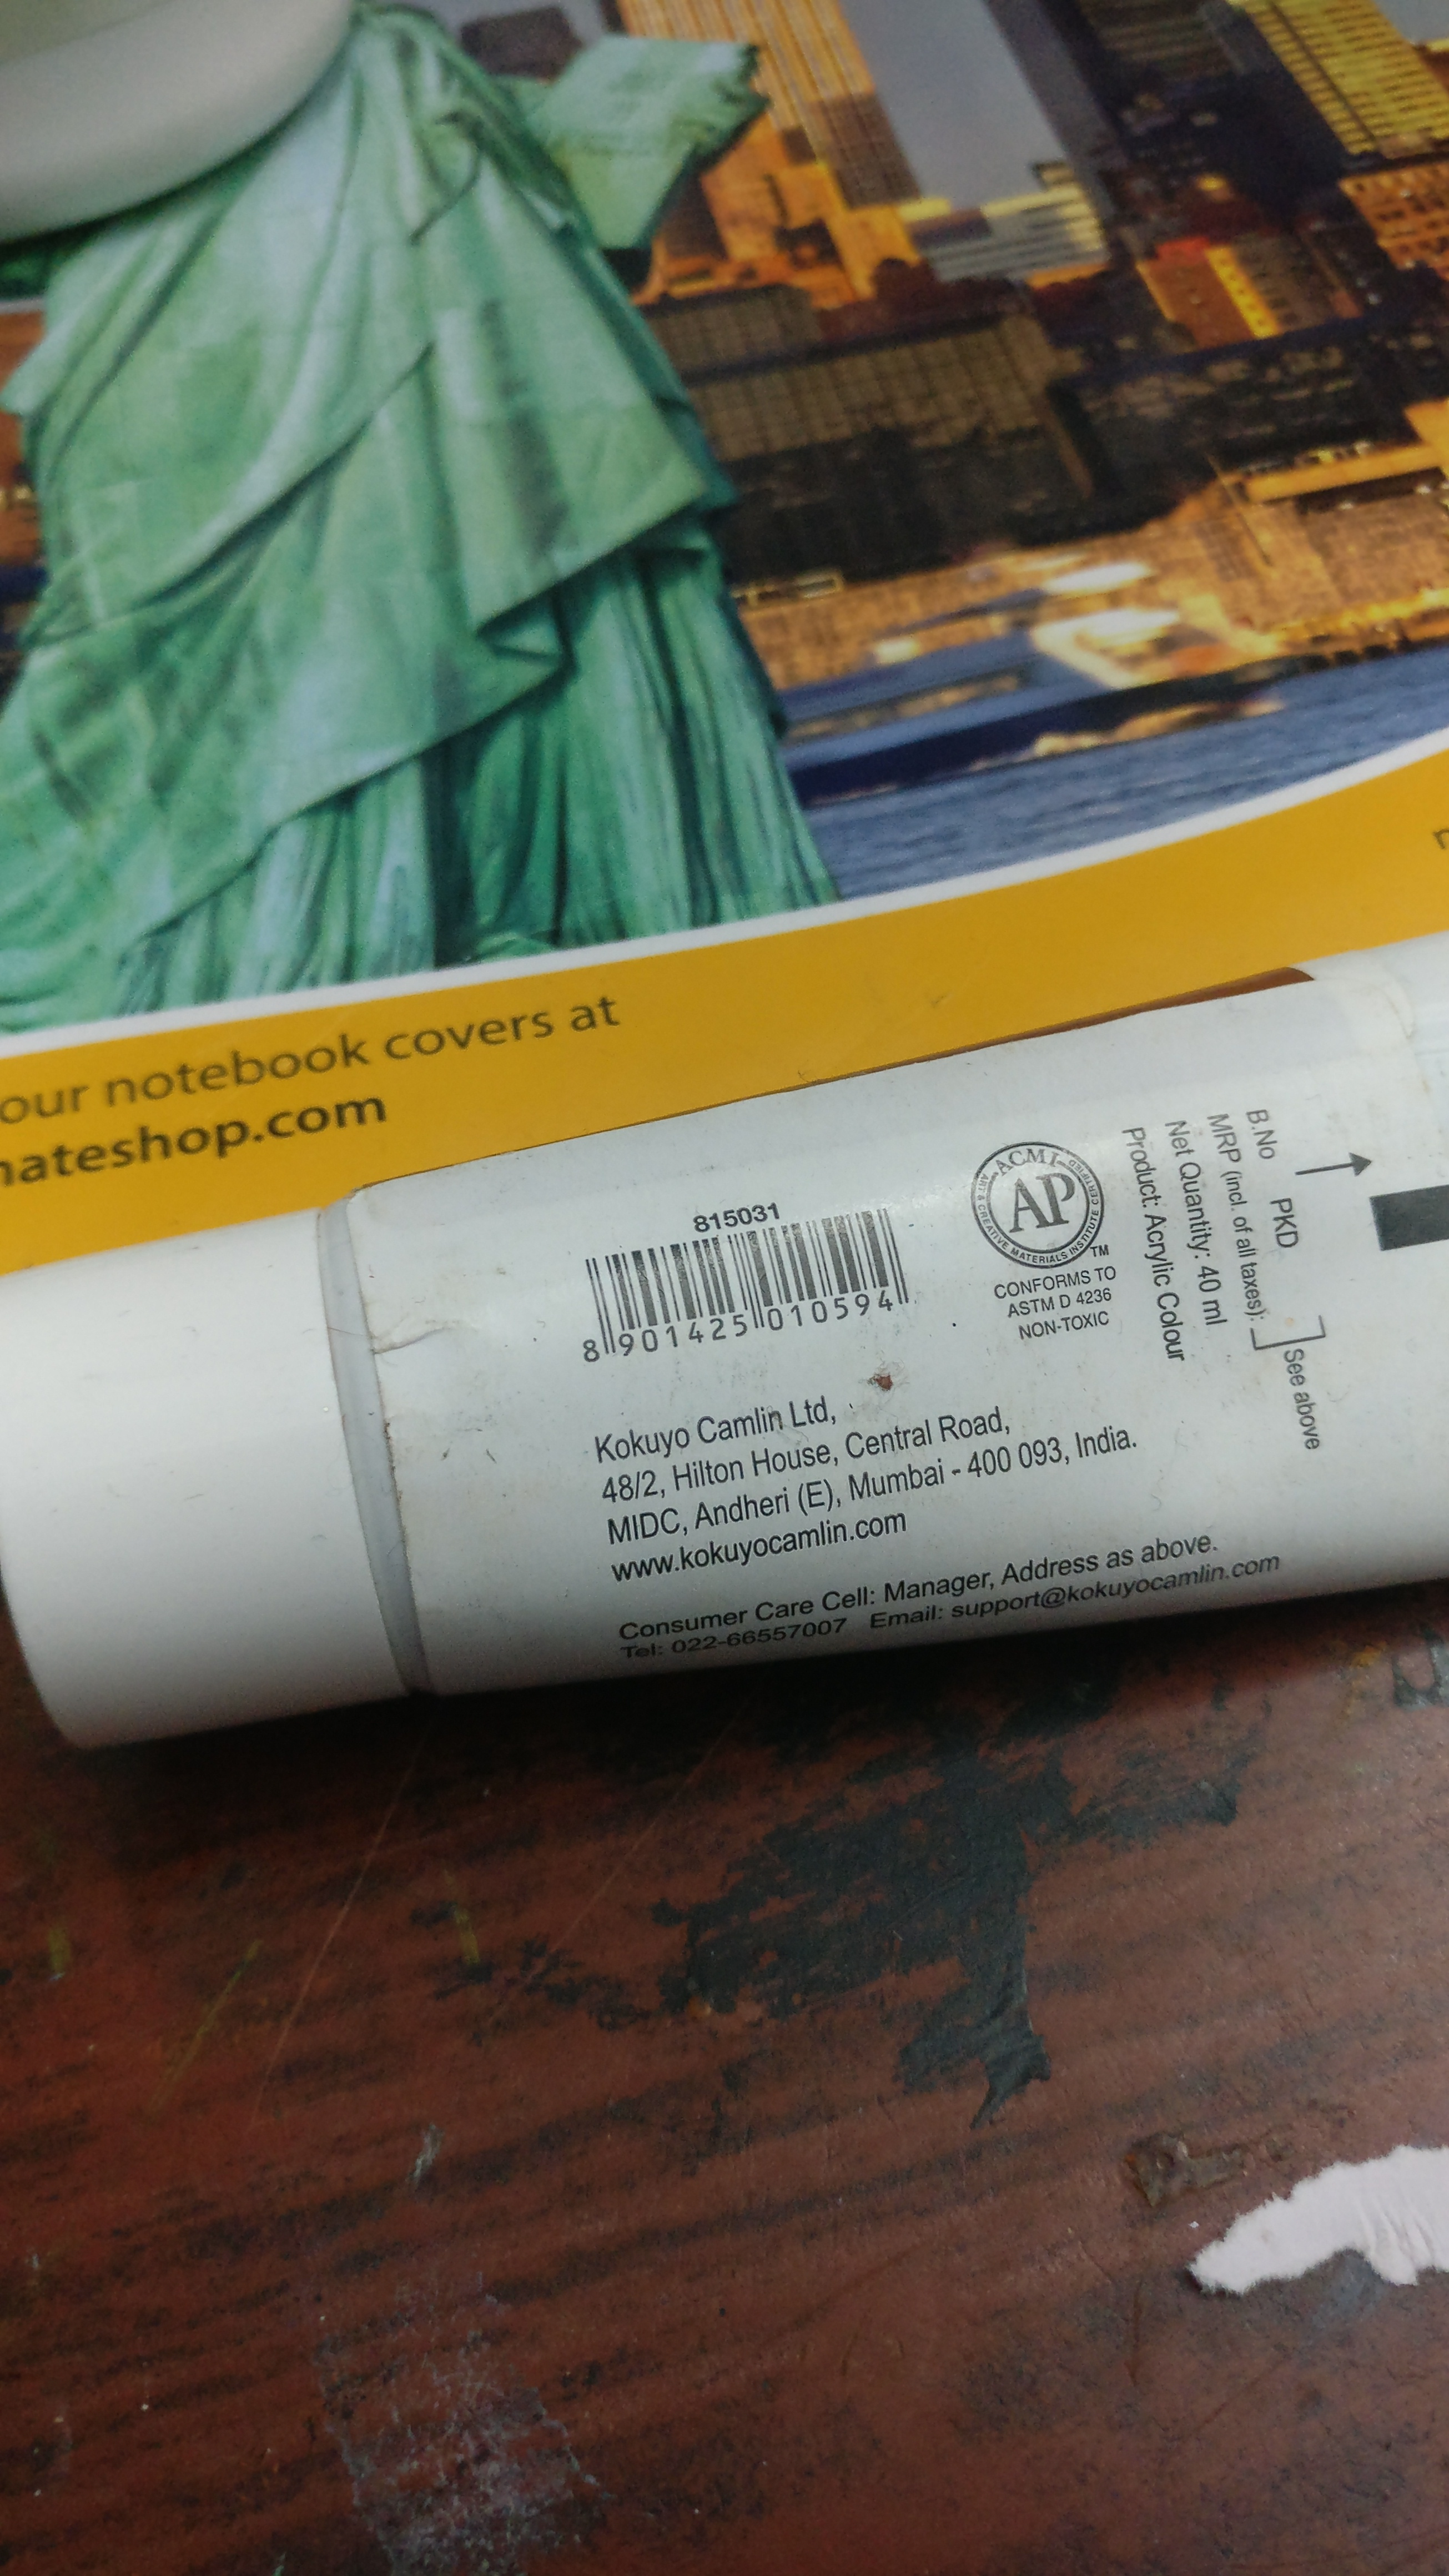barcode: (550, 1214, 945, 1366)
